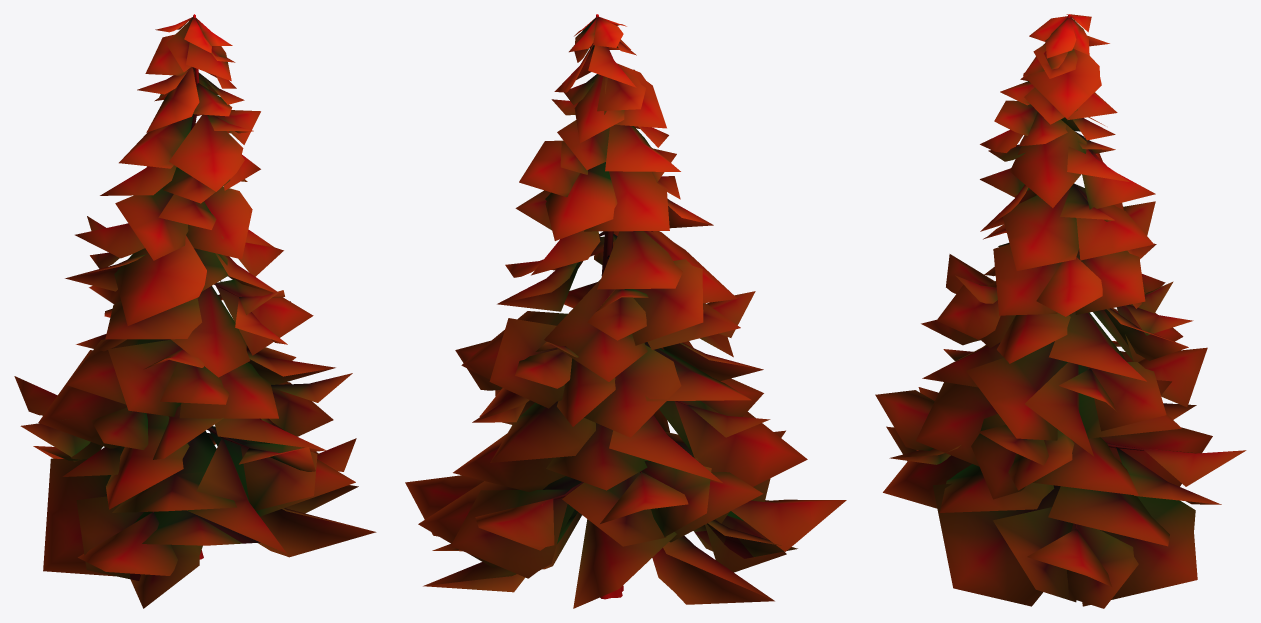
Rendered from SpruceTreeRHEWP_C.fbx.
3 views of the same model, side by side, from view 1: azimuth 30°, elevation 25°; view 2: azimuth 150°, elevation 25°; view 3: azimuth 270°, elevation 25° (orthographic). The views are drawn at different scales.
Visible parts, largest first — view 1: STC_Leaves_LOD0; view 2: STC_Leaves_LOD0, STC_Bark_LOD0; view 3: STC_Leaves_LOD0.
Part boxes in pixels (x1,y1,x2,y2): STC_Leaves_LOD0: (14,17,376,608); STC_Leaves_LOD0: (405,17,846,608); STC_Bark_LOD0: (542,14,688,599); STC_Leaves_LOD0: (875,14,1246,608).
Size of what is drawn, in the model's own units: 11.87 by 18.86 by 11.4.
